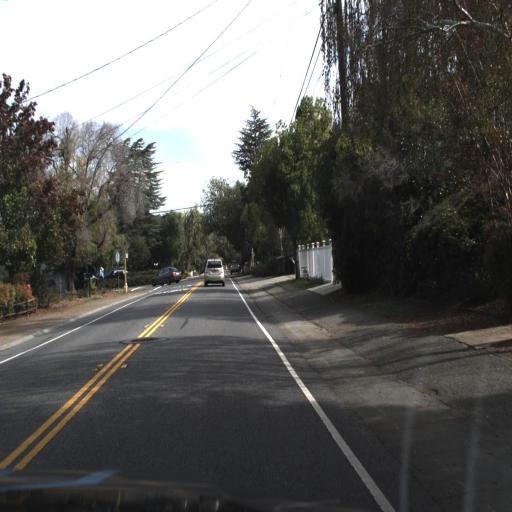car: (203, 255, 231, 291), (153, 262, 181, 287), (229, 259, 241, 275)
